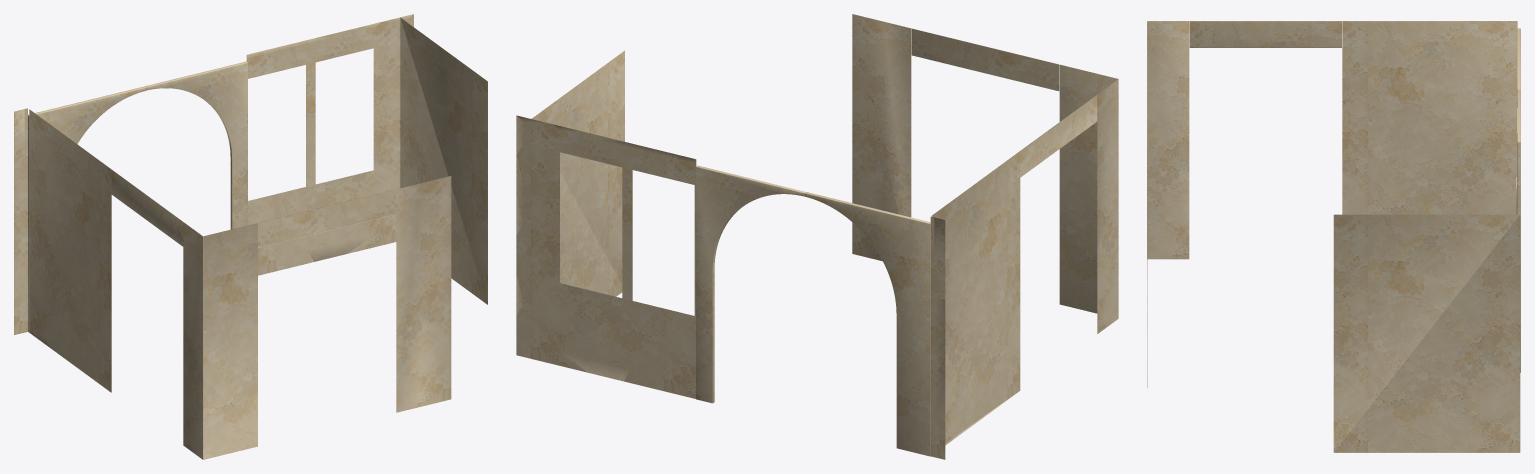
Rendered from CM_SW14_RegisteredLime.fbx.
3 renders of one model, left to right at view 1: azimuth 30°, elevation 25°; view 2: azimuth 150°, elevation 25°; view 3: azimuth 270°, elevation 25°, orthographic. The views are drawn at different scales.
Visible parts, largest first — view 1: CM_SW14_RegisteredLime; view 2: CM_SW14_RegisteredLime; view 3: CM_SW14_RegisteredLime.
Boxes of the visible parts, box(x1,y1,x2,y2) form: CM_SW14_RegisteredLime: box(14, 14, 487, 459); CM_SW14_RegisteredLime: box(516, 14, 1118, 459); CM_SW14_RegisteredLime: box(1147, 21, 1520, 452).
Size of the model in its own units: 5.8 by 3.1 by 4.41.
